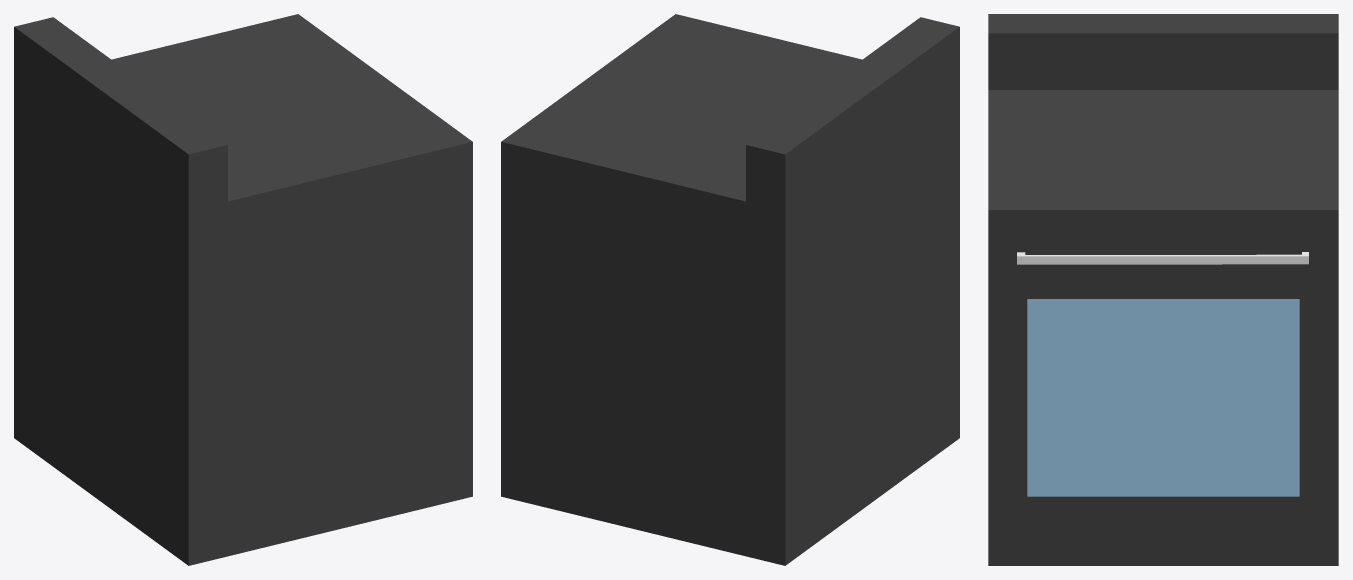
Rendered from Oven.fbx.
3 views of the same model, side by side, from view 1: azimuth 30°, elevation 25°; view 2: azimuth 150°, elevation 25°; view 3: azimuth 270°, elevation 25° (orthographic).
Visible parts, largest first — view 1: KitchenOven; view 2: KitchenOven; view 3: KitchenOven.
Boxes of the visible parts, x1,y1,x2,y2 form: KitchenOven: (14,14,472,565); KitchenOven: (501,14,959,565); KitchenOven: (988,14,1338,565).
Bounding box in the file's own units: 107 × 144 × 111.
